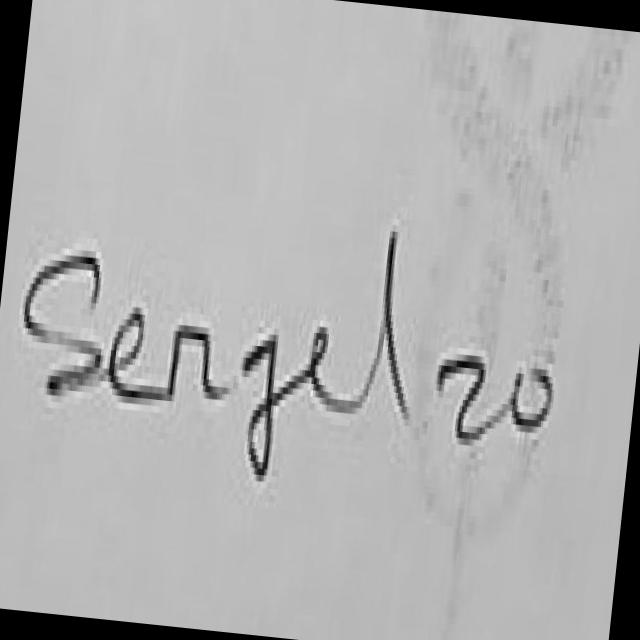0: (516, 376, 548, 430)
2: (440, 363, 509, 442)
S: (28, 258, 102, 393)
e: (314, 336, 382, 411), (108, 307, 161, 400)
g: (242, 335, 274, 478)
l: (368, 231, 410, 416)
r: (167, 325, 227, 398)
